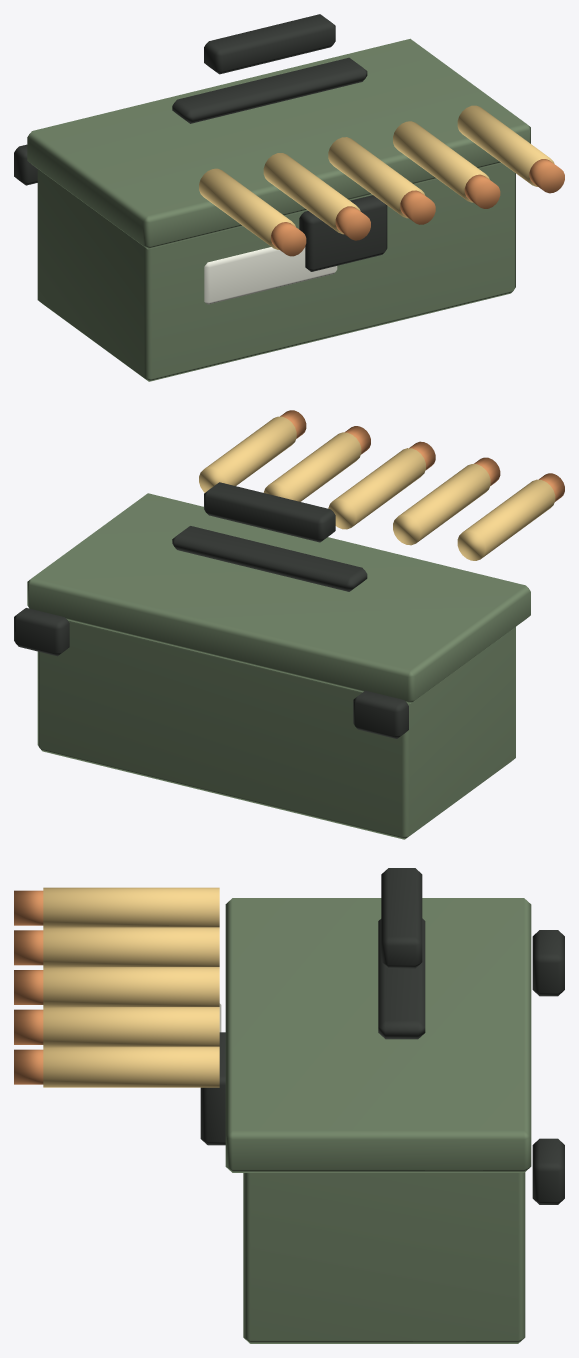
File: approved_ammo_loot_v1.glb
3 views of the same model, one above another, from view 1: azimuth 30°, elevation 25°; view 2: azimuth 150°, elevation 25°; view 3: azimuth 270°, elevation 25° (orthographic). The views are drawn at different scales.
Visible parts, largest first — view 1: ammo_can_body, ammo_can_lid, ammo_can_handle_base, ammo_can_handle_top, ammo_stencil_plate, ammo_can_front_latch, visible_brass_round_1, visible_brass_round_4, visible_brass_round_2, visible_brass_round_3, visible_brass_round_0, visible_copper_tip_3 (+5 smaller); view 2: ammo_can_body, ammo_can_lid, ammo_can_handle_base, ammo_can_handle_top, visible_brass_round_0, visible_brass_round_1, visible_brass_round_2, visible_brass_round_4, visible_brass_round_3, ammo_can_side_hinge_left, ammo_can_side_hinge_right; view 3: ammo_can_lid, ammo_can_body, visible_brass_round_4, visible_brass_round_0, visible_brass_round_1, visible_brass_round_2, visible_brass_round_3, ammo_can_handle_top, ammo_can_handle_base, ammo_can_side_hinge_left, ammo_can_side_hinge_right, ammo_can_front_latch (+5 smaller).
Boxes of the visible parts, x1,y1,x2,y2 form: ammo_can_body: [37, 163, 515, 381]; ammo_can_lid: [27, 38, 530, 249]; ammo_can_handle_base: [172, 57, 367, 123]; ammo_can_handle_top: [204, 14, 335, 74]; ammo_stencil_plate: [204, 247, 337, 304]; ammo_can_front_latch: [299, 195, 387, 271]; visible_brass_round_1: [263, 153, 360, 234]; visible_brass_round_4: [457, 105, 554, 186]; visible_brass_round_2: [328, 137, 425, 218]; visible_brass_round_3: [393, 121, 489, 202]; visible_brass_round_0: [199, 168, 295, 249]; visible_copper_tip_3: [464, 174, 500, 208]; ammo_can_body: [37, 620, 515, 839]; ammo_can_lid: [27, 493, 530, 703]; ammo_can_handle_base: [172, 526, 367, 591]; ammo_can_handle_top: [204, 482, 335, 542]; visible_brass_round_0: [457, 479, 555, 560]; visible_brass_round_1: [393, 464, 490, 545]; visible_brass_round_2: [328, 448, 425, 529]; visible_brass_round_4: [199, 416, 296, 492]; visible_brass_round_3: [263, 432, 361, 501]; ammo_can_side_hinge_left: [353, 690, 408, 738]; ammo_can_side_hinge_right: [14, 608, 69, 656]; ammo_can_lid: [225, 898, 531, 1172]; ammo_can_body: [243, 1172, 525, 1343]; visible_brass_round_4: [43, 1046, 219, 1087]; visible_brass_round_0: [43, 887, 219, 927]; visible_brass_round_1: [43, 927, 219, 966]; visible_brass_round_2: [43, 967, 219, 1006]; visible_brass_round_3: [43, 1007, 219, 1046]; ammo_can_handle_top: [381, 868, 422, 968]; ammo_can_handle_base: [378, 918, 425, 1039]; ammo_can_side_hinge_left: [532, 930, 564, 996]; ammo_can_side_hinge_right: [532, 1138, 564, 1204]; ammo_can_front_latch: [200, 1032, 225, 1145].
Size of the model in its own units: 0.96 by 0.62 by 0.9375.
